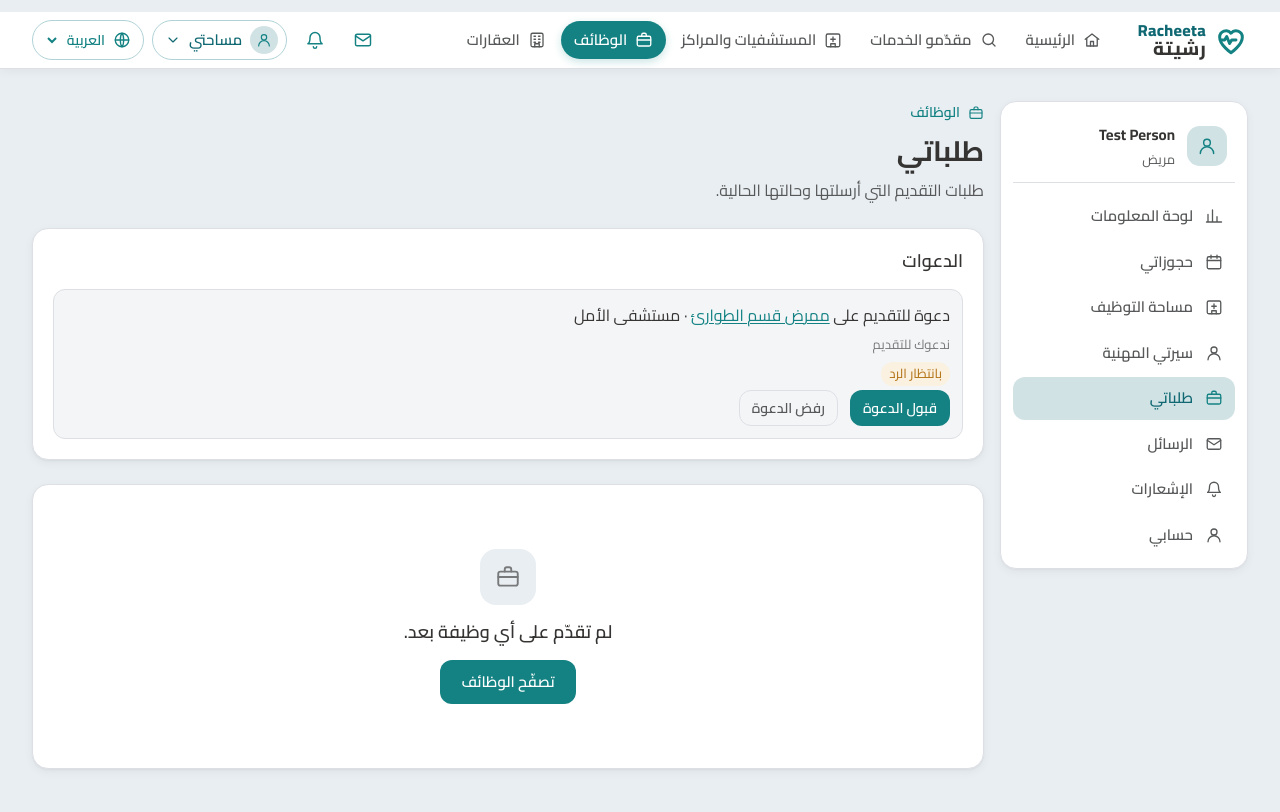
MyApplicationsPage › responds to an invitation without auto-applying
This screenshot has width=1280, height=812.
Click the button "قبول الدعوة" at (900, 408), box [850, 390, 950, 426]
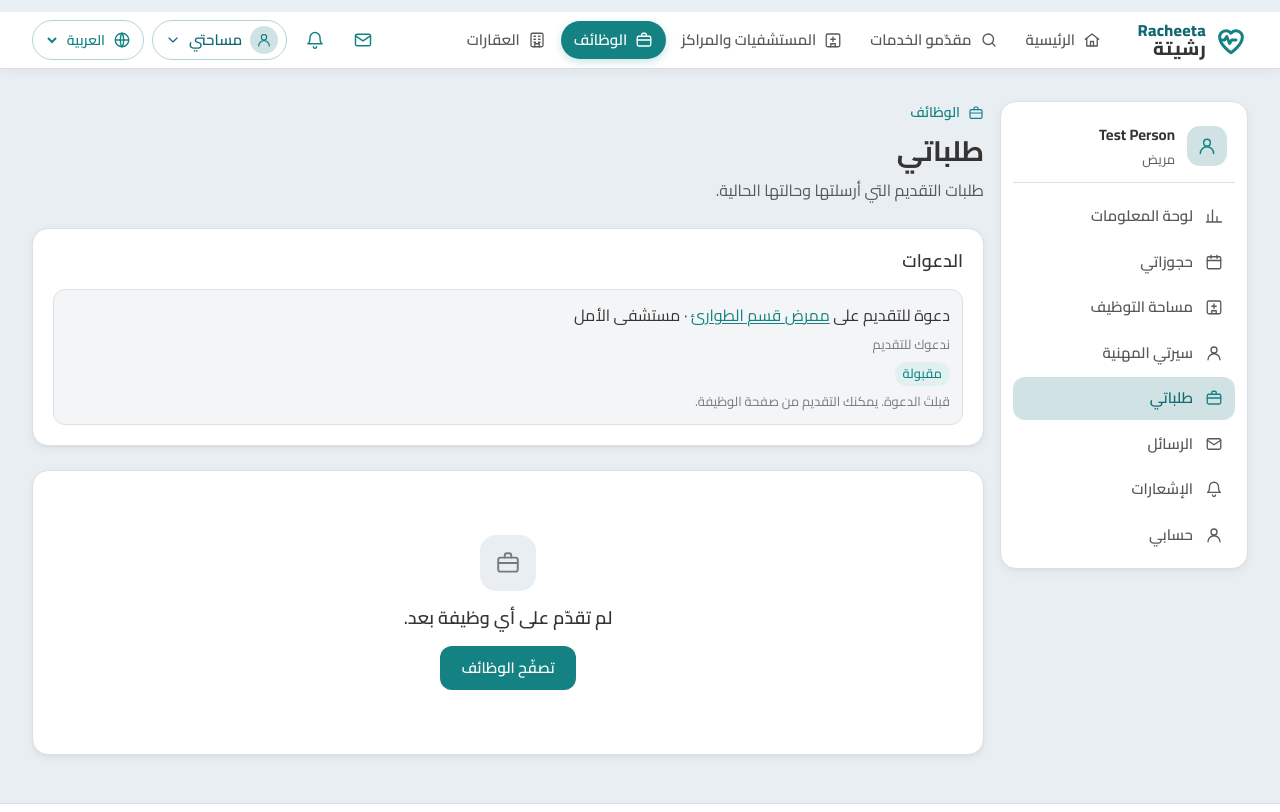
Now the text with test id "invitation-accepted-hint" reads "قبلتَ الدعوة. يمكنك التقديم من صفحة الوظيفة.", box [695, 389, 950, 413]
Now the button "قبول الدعوة" is gone
